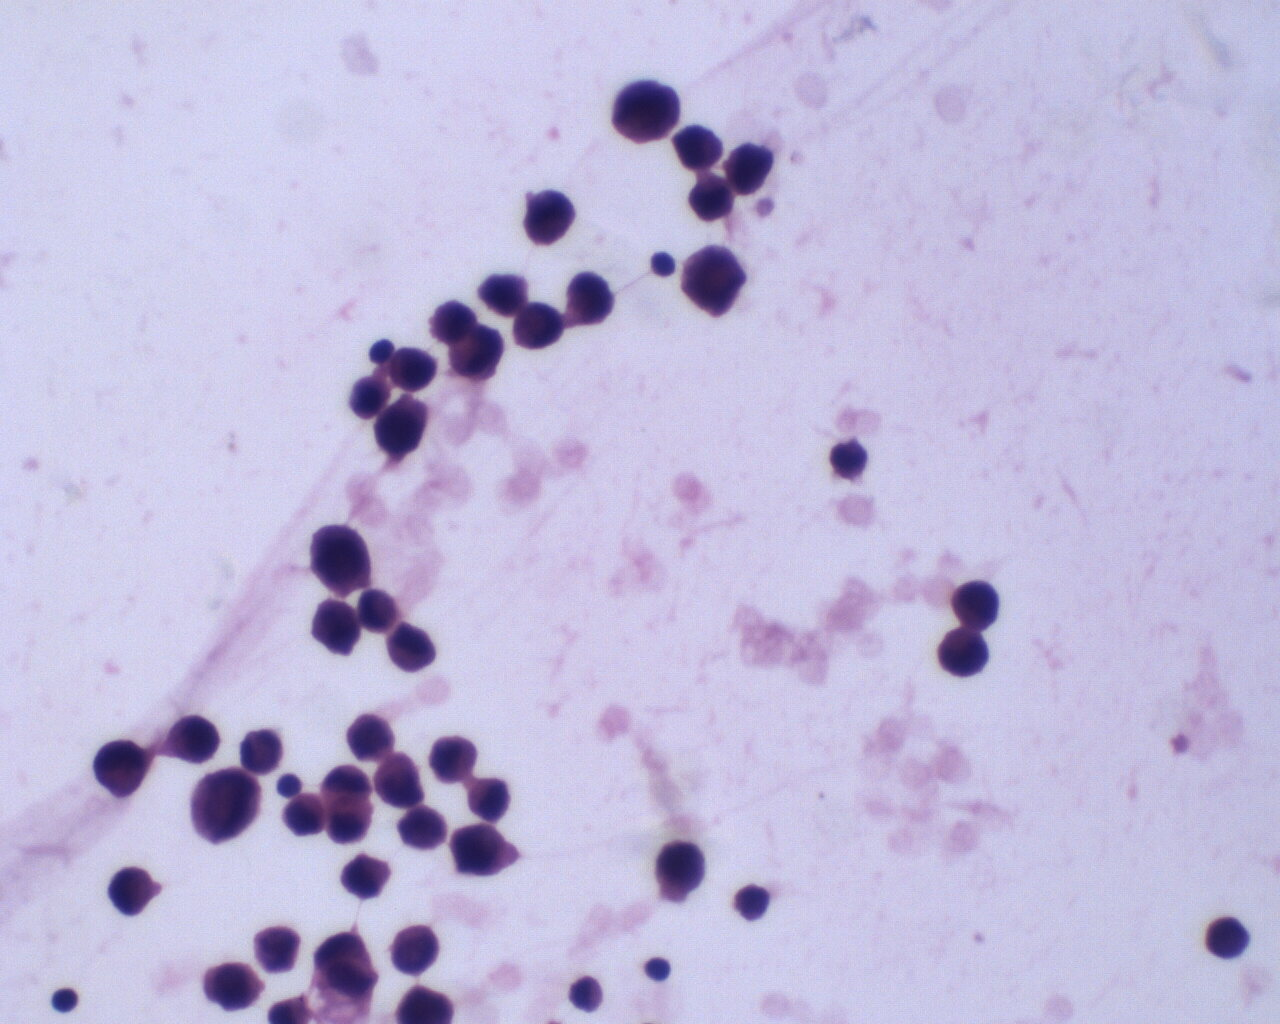ab: (186, 768, 267, 848), (305, 520, 376, 598), (611, 75, 684, 147), (369, 393, 434, 457), (93, 735, 152, 802), (650, 841, 711, 905), (449, 325, 509, 385), (374, 752, 430, 810), (932, 624, 991, 679), (163, 713, 222, 766), (389, 924, 445, 978), (249, 924, 306, 977), (386, 618, 439, 673), (106, 861, 156, 918), (949, 578, 1001, 630), (510, 301, 562, 352), (686, 174, 739, 225), (429, 734, 478, 786), (391, 343, 437, 393), (466, 773, 511, 820), (282, 791, 325, 838)
lymph: (47, 983, 83, 1020), (646, 248, 680, 278), (644, 955, 674, 985)
